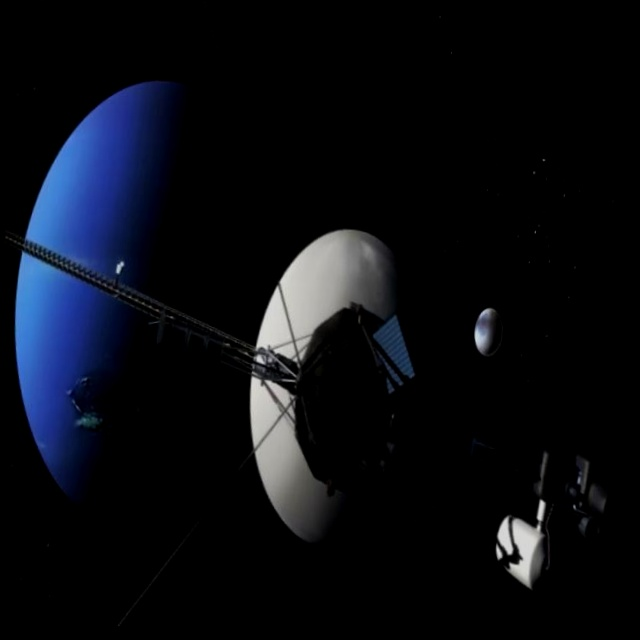large_debris: (454, 265, 516, 378)
medium_debris: (0, 120, 640, 640)
